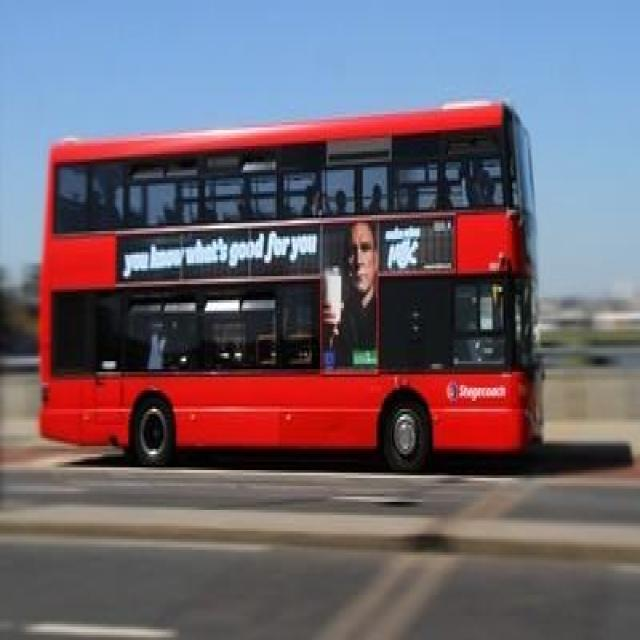Bus: (36, 102, 546, 467)
